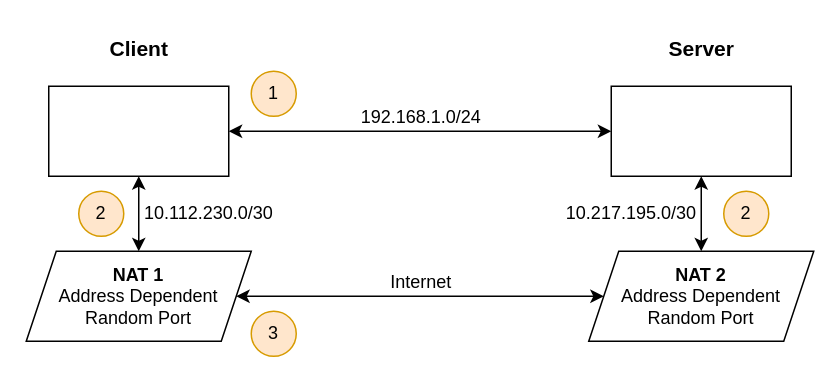
Image size: 840x383. Some labels were removed from this diagram. The centre of each missing label's shape, as x and y in pixels:
Host 1: point (138, 130)
Host 2: point (700, 130)
